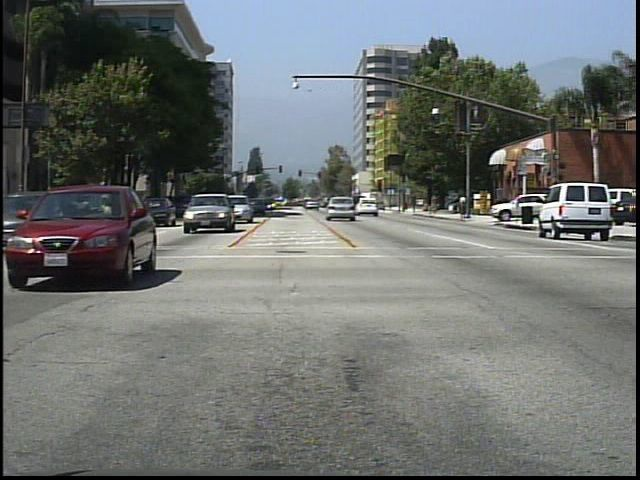person: (454, 189, 470, 221), (430, 191, 442, 215)
